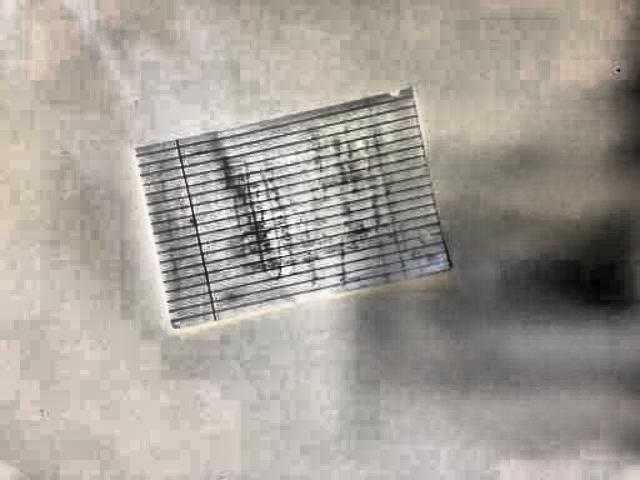Paper: (136, 82, 453, 322)
